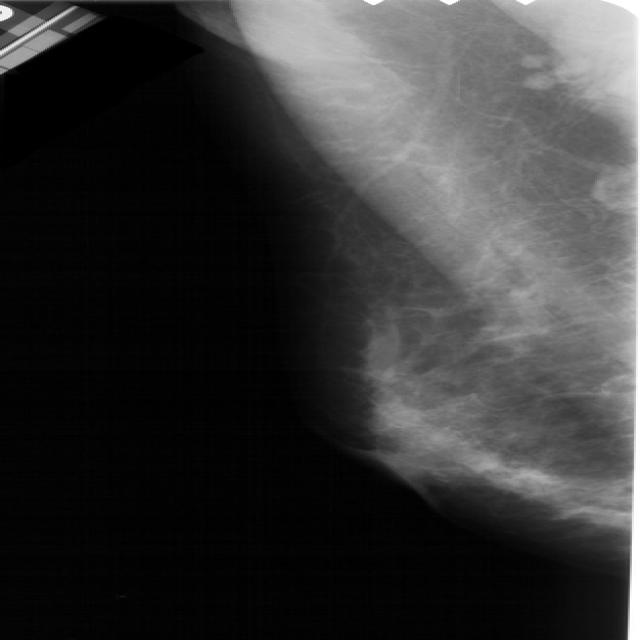tumour: (497, 467, 562, 490)
